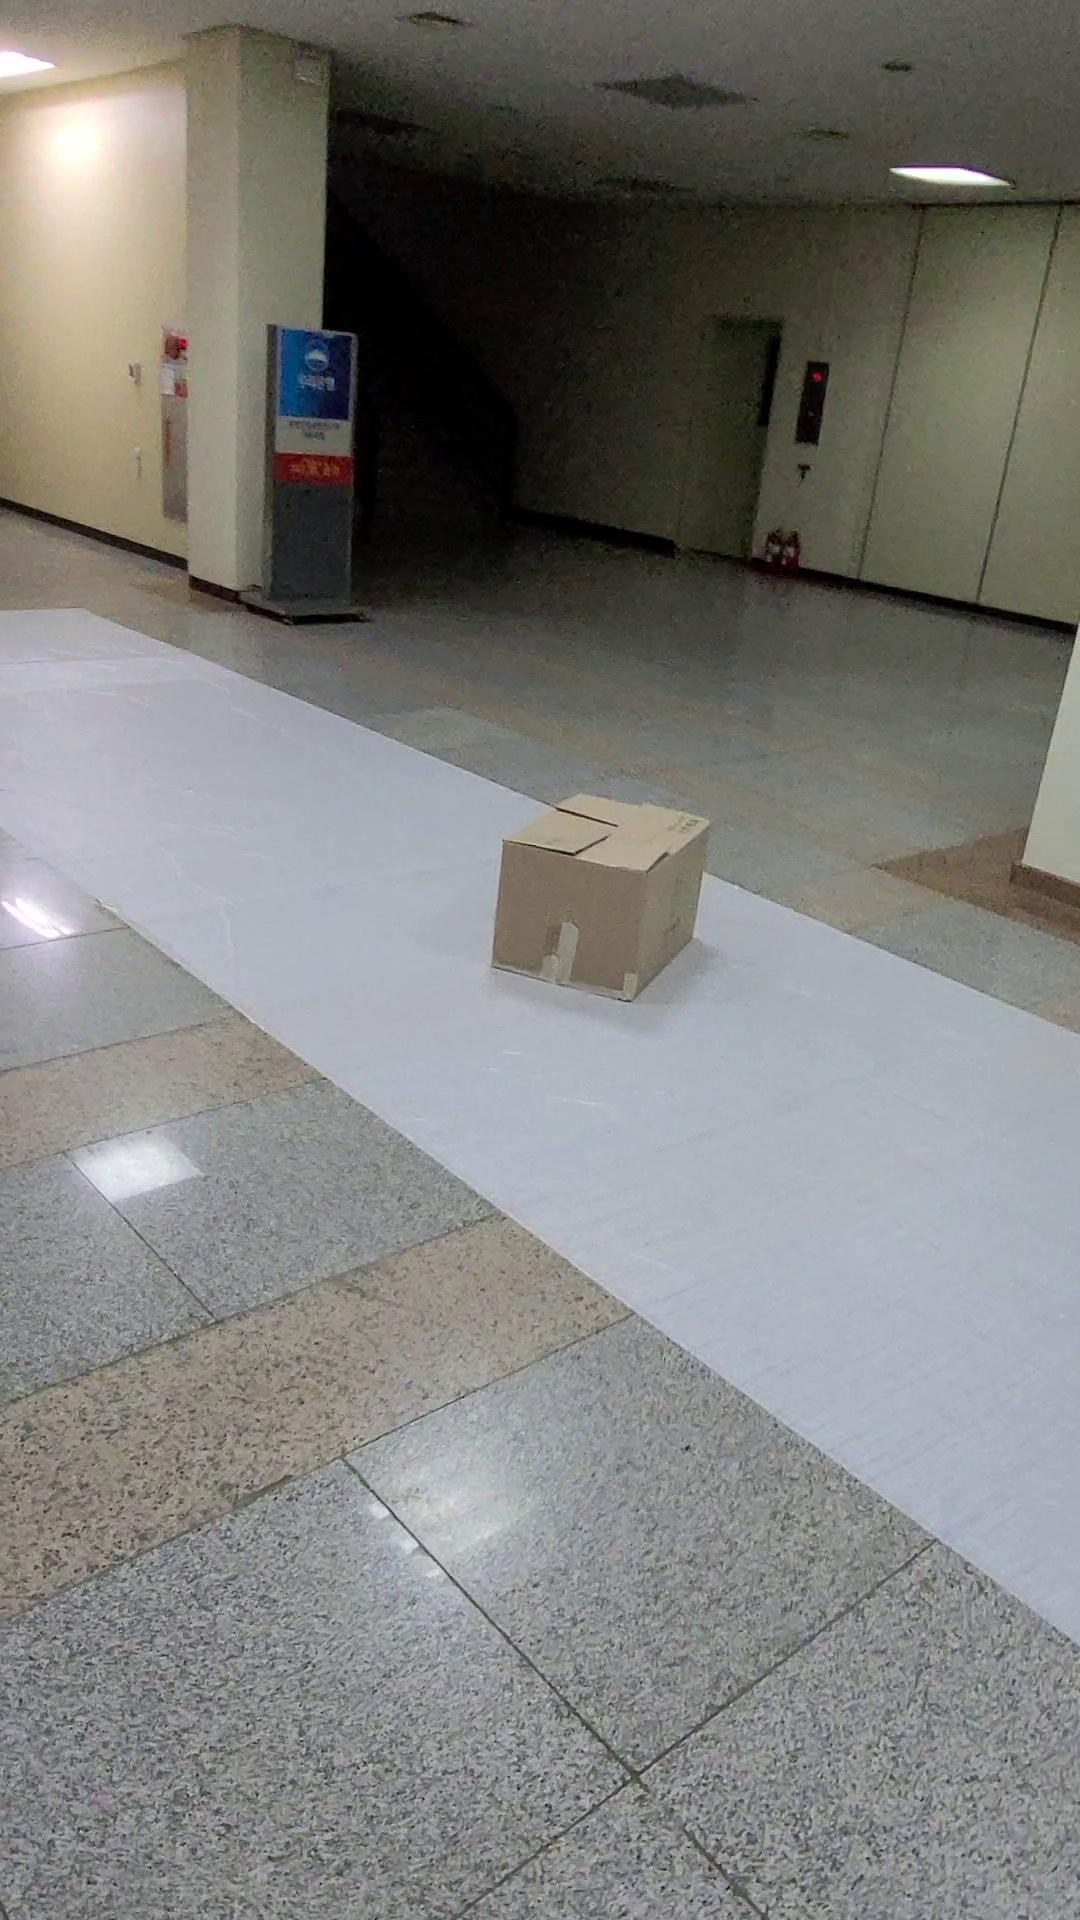Box: (473, 783, 729, 1033)
